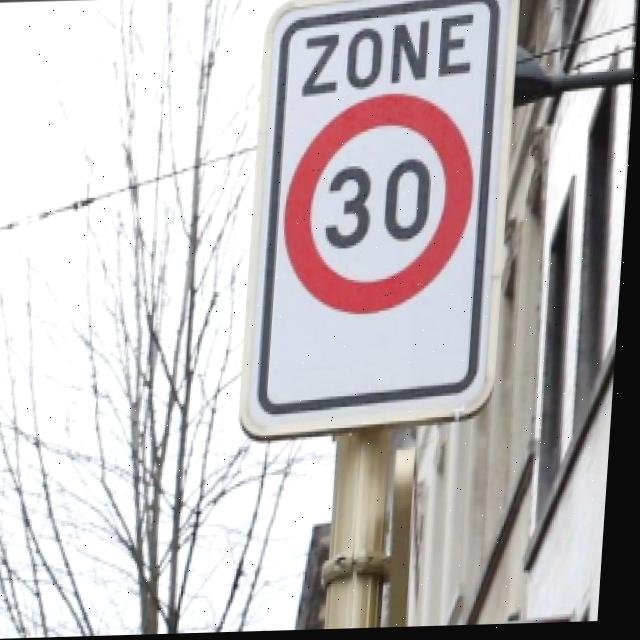Speed limit 30: (282, 90, 483, 320)
